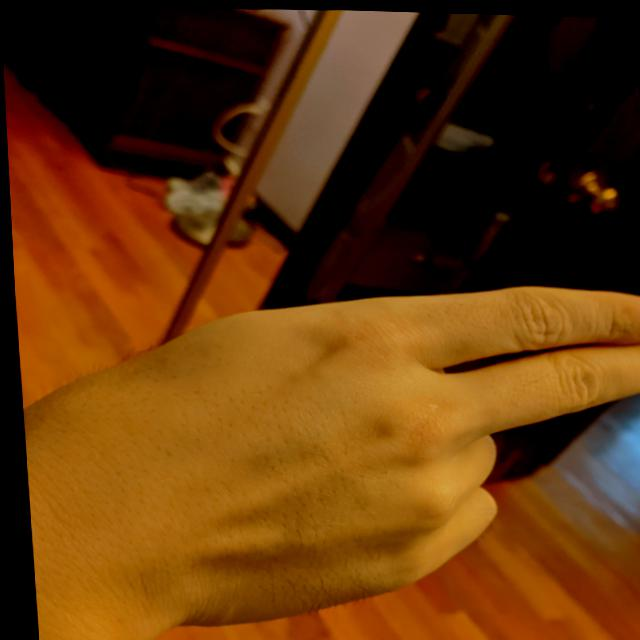H: (42, 259, 639, 639)
